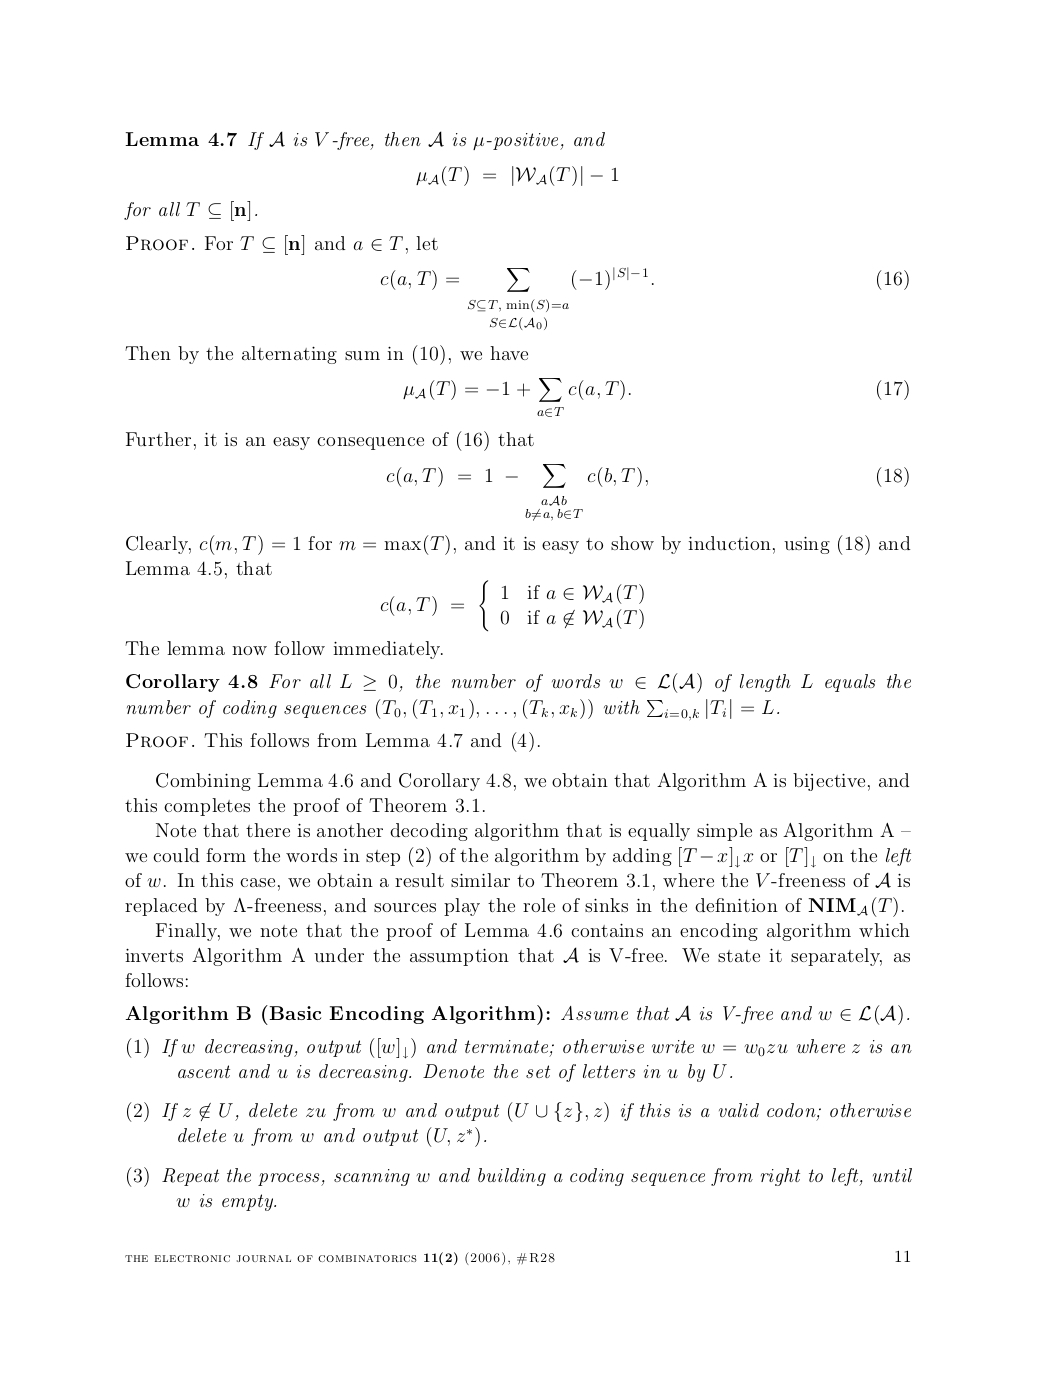formula: (380, 267, 908, 330), (386, 464, 908, 520), (403, 378, 908, 416), (380, 580, 643, 632), (416, 165, 619, 186)
